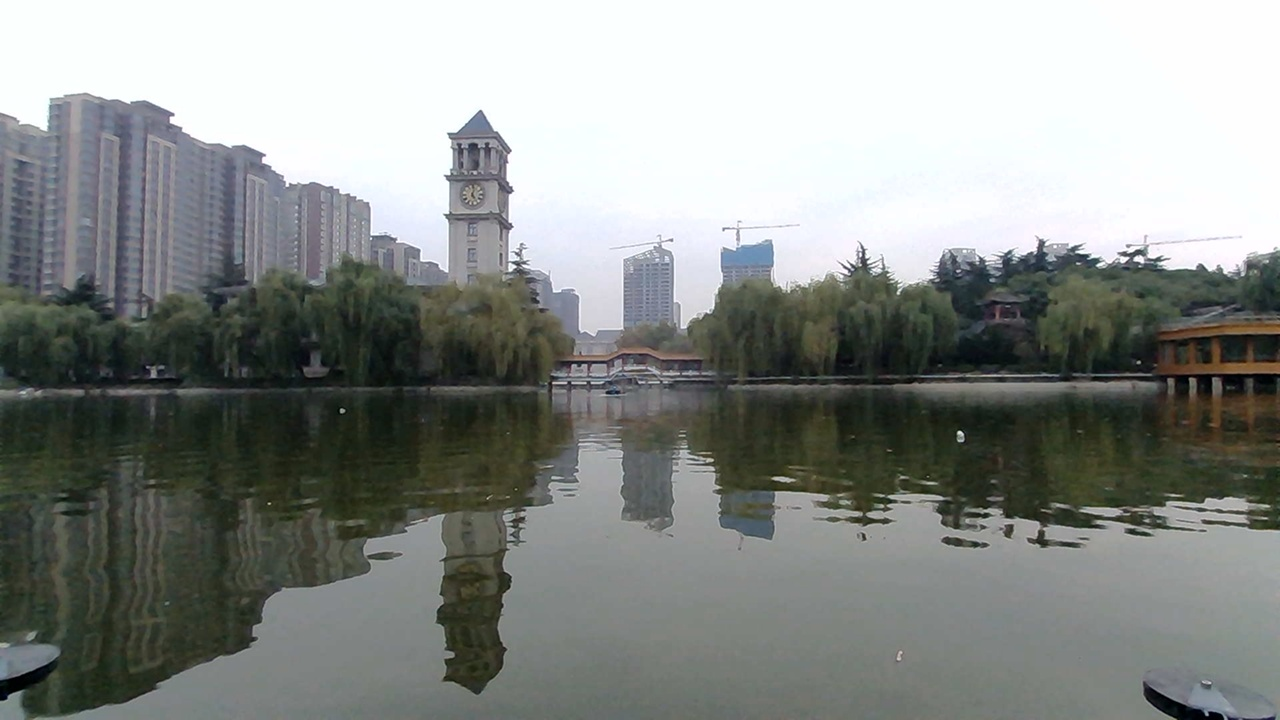bottle: (947, 418, 978, 447)
